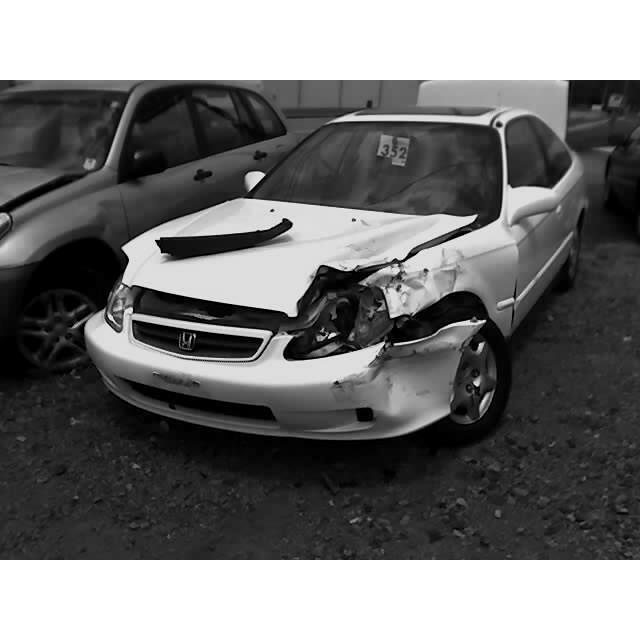bonnet-dent: (200, 198, 454, 271)
fender-dent: (383, 251, 506, 329)
front-bumper-dent: (285, 319, 448, 429)
